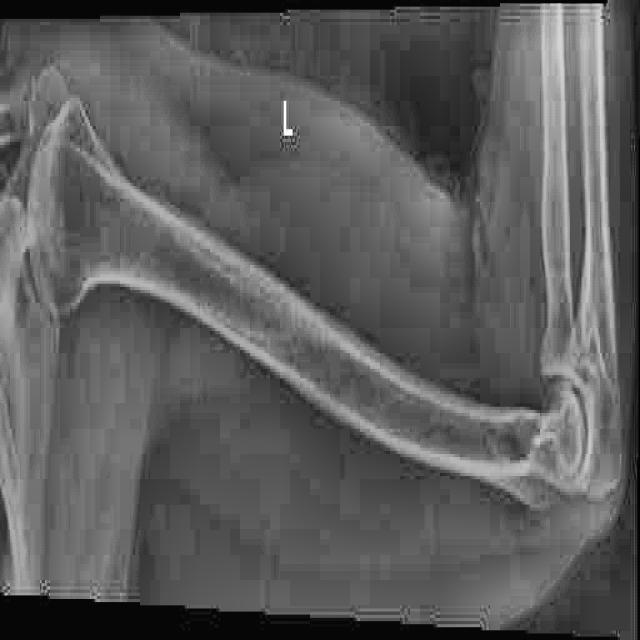humerus: (476, 442, 573, 545)
